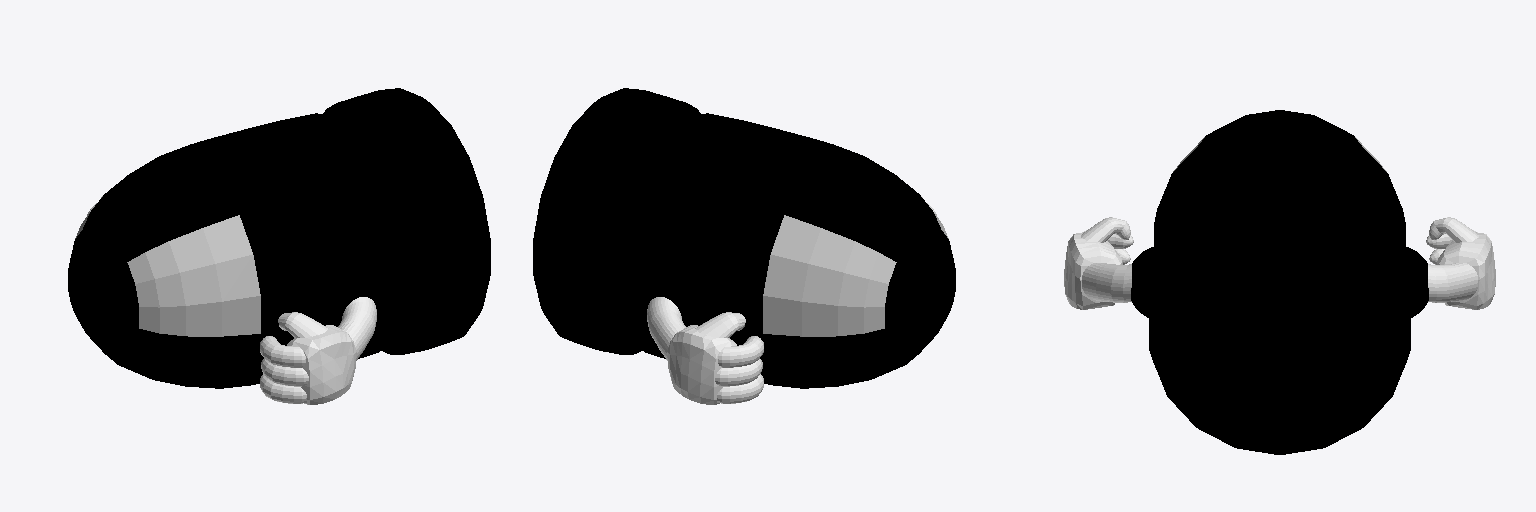
Rendered from bolaBateo.obj.
The picture shows the model from 3 angles: view 1: azimuth 30°, elevation 25°; view 2: azimuth 150°, elevation 25°; view 3: azimuth 270°, elevation 25°; orthographic projection.
Parts seen in each view (by area): view 1: Cylinder001; view 2: Cylinder001; view 3: Cylinder001.
Boxes of the visible parts, box(x1,y1,x2,y2) form: Cylinder001: box(68, 88, 490, 404); Cylinder001: box(533, 88, 955, 404); Cylinder001: box(1064, 110, 1495, 454).
Size of the model in its own units: 0.6115 by 0.3992 by 0.6464.